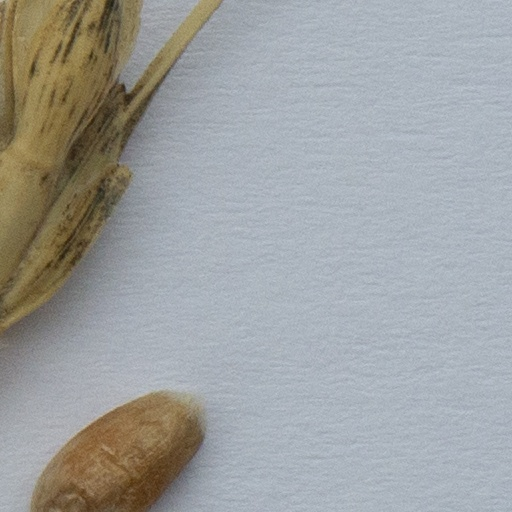Peel-poly: (0, 0, 223, 326)
